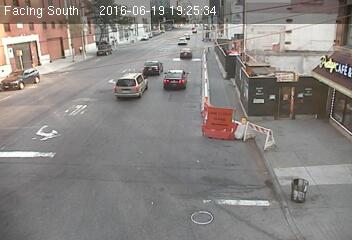neg: (46, 140, 68, 169), (58, 47, 77, 73), (183, 68, 202, 93), (202, 96, 221, 121), (265, 56, 282, 79), (115, 61, 132, 83), (292, 176, 309, 198), (238, 118, 254, 139), (270, 142, 285, 161), (155, 71, 169, 89), (32, 117, 45, 133), (36, 77, 47, 92)
